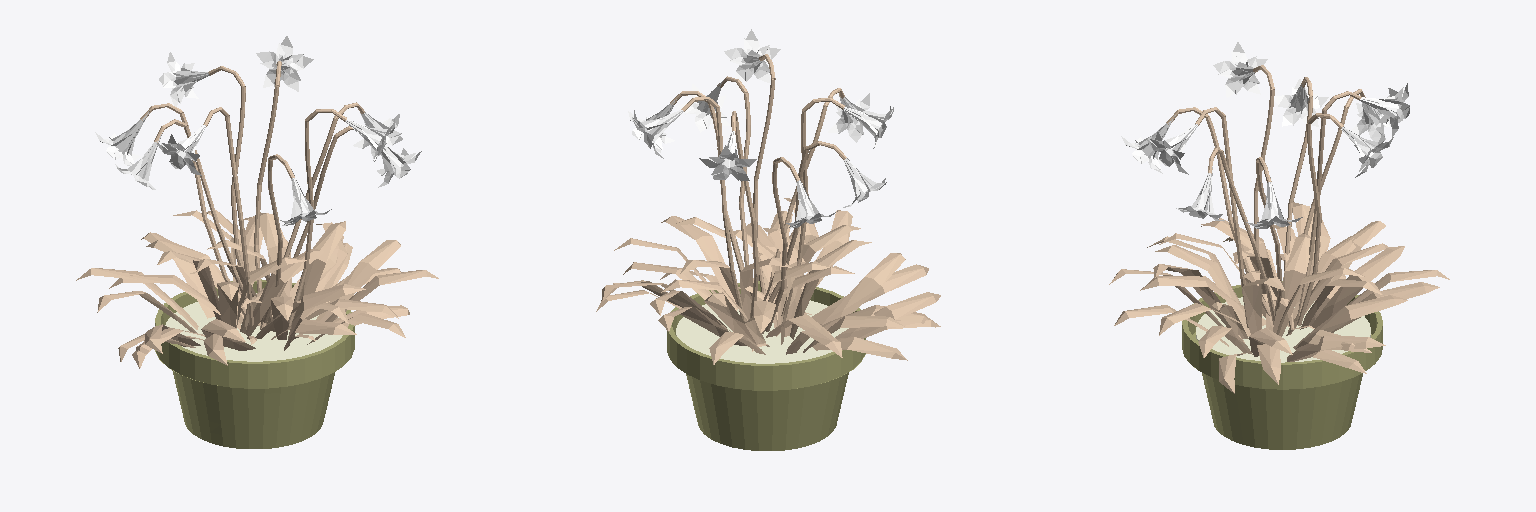
The model's file is houseplant2.obj.
3 renders of one model, left to right at view 1: azimuth 30°, elevation 25°; view 2: azimuth 150°, elevation 25°; view 3: azimuth 270°, elevation 25°, orthographic.
Parts seen in each view (by area): view 1: (null); view 2: (null); view 3: (null).
Boxes of the visible parts, x1,y1,x2,y2 form: (null): [76, 36, 438, 448]; (null): [596, 29, 940, 450]; (null): [1109, 42, 1449, 449].
Size of the model in its own units: 44.96 by 47.72 by 44.84.